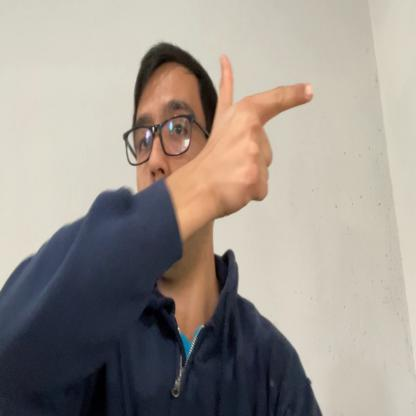G: (215, 52, 314, 217)
